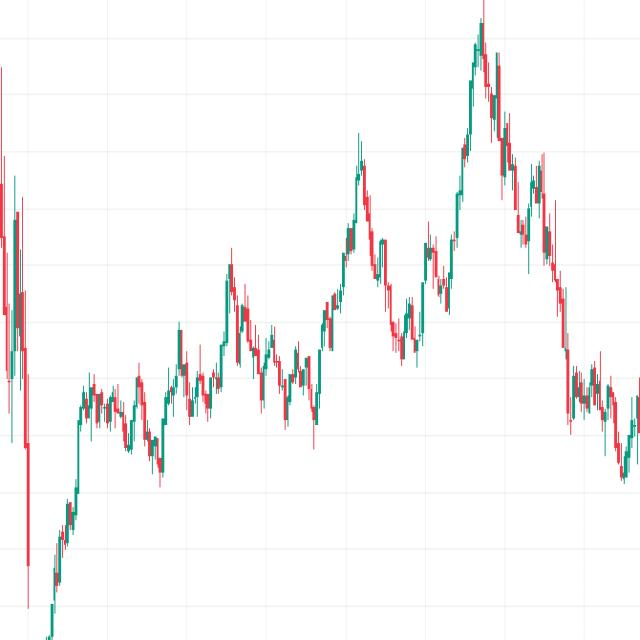Triple-Bottom: (249, 321, 326, 434)
